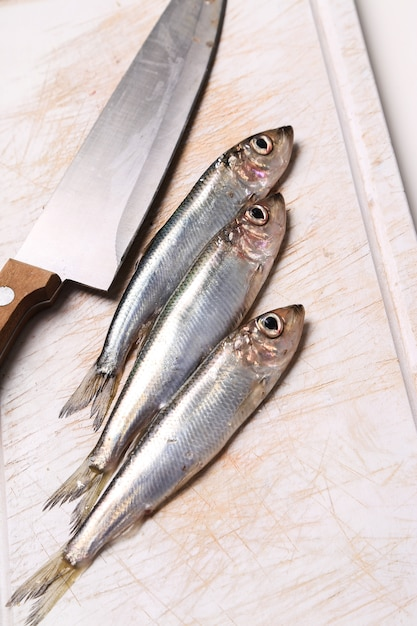knife: (0, 2, 224, 370)
